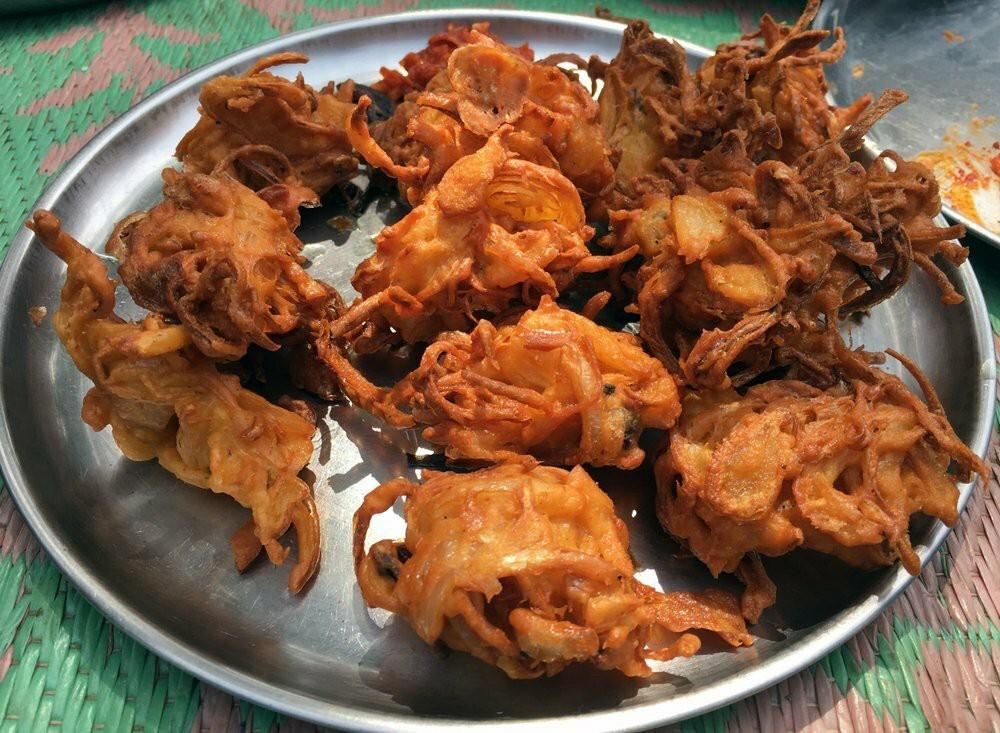OnionPakoda: (49, 5, 1000, 699)
